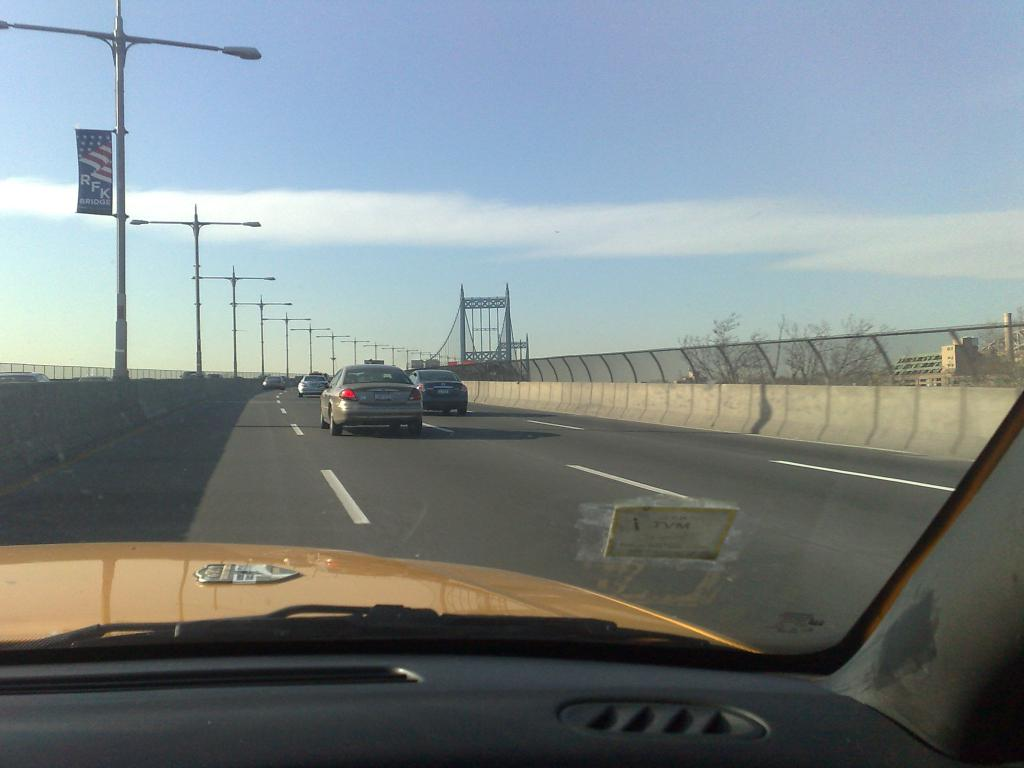Car: (0, 394, 1023, 767), (313, 353, 424, 435), (408, 366, 476, 416), (0, 367, 48, 387), (296, 373, 334, 395), (258, 374, 286, 388), (78, 374, 112, 380), (207, 373, 228, 379)
